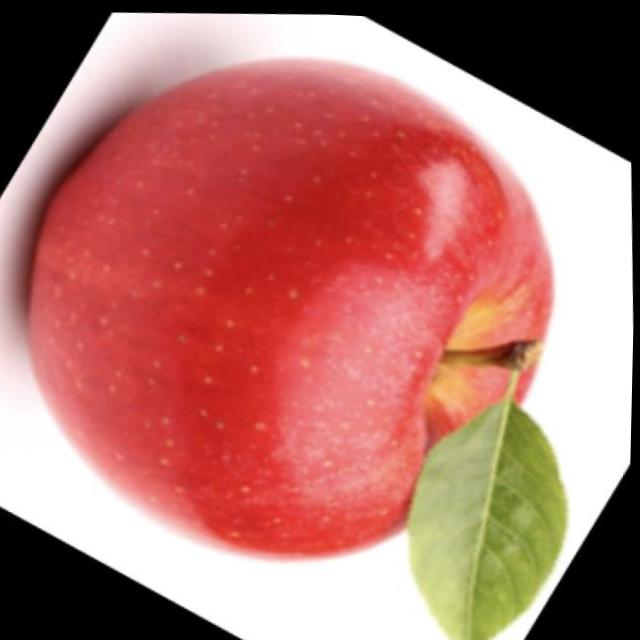Apple: (14, 36, 570, 579)
